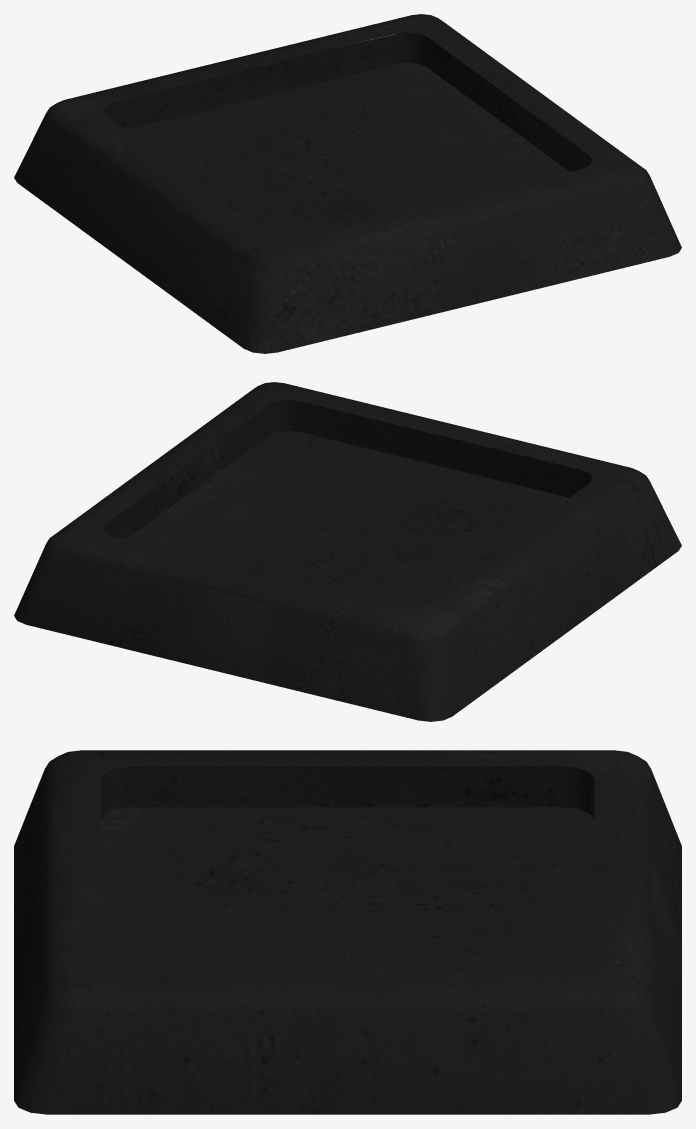
File: F_WeaponSelect_Frame_01.fbx
The picture shows the model from 3 angles, top to bottom: view 1: azimuth 30°, elevation 25°; view 2: azimuth 150°, elevation 25°; view 3: azimuth 270°, elevation 25°; orthographic projection. The views are drawn at different scales.
Visible parts, largest first — view 1: F_WeaponSelect_Frame_01; view 2: F_WeaponSelect_Frame_01; view 3: F_WeaponSelect_Frame_01.
Boxes of the visible parts, <box> form: F_WeaponSelect_Frame_01: <box>14,14,681,353</box>; F_WeaponSelect_Frame_01: <box>14,382,681,721</box>; F_WeaponSelect_Frame_01: <box>14,750,681,1114</box>.
Size of the model in its own units: 49.99 by 8.48 by 49.99.
Materials: 1 (1 with a texture image).
